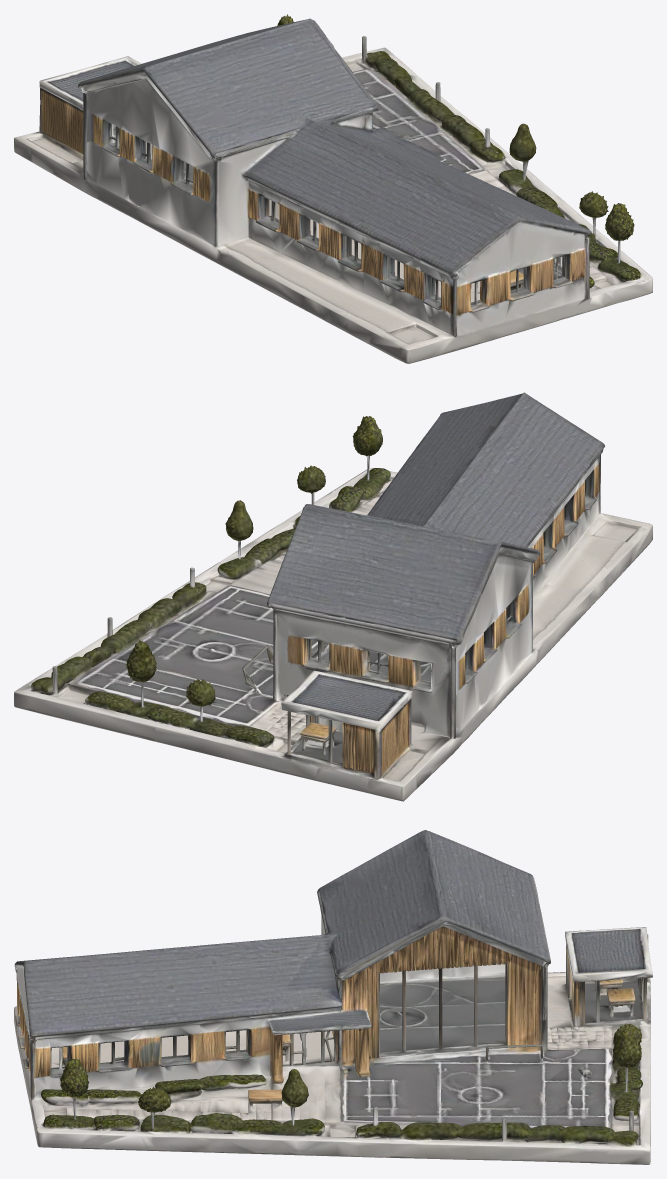
Rendered from b3-learning.glb.
3 views of the same model, one above another, from view 1: azimuth 30°, elevation 25°; view 2: azimuth 150°, elevation 25°; view 3: azimuth 270°, elevation 25° (orthographic). The views are drawn at different scales.
Visible parts, largest first — view 1: tripo_node_f67ab627-59f6-4296-8cf1-d5aba516e9d5; view 2: tripo_node_f67ab627-59f6-4296-8cf1-d5aba516e9d5; view 3: tripo_node_f67ab627-59f6-4296-8cf1-d5aba516e9d5.
Part boxes in pixels (left/top/right/bottom): tripo_node_f67ab627-59f6-4296-8cf1-d5aba516e9d5: left=14, top=14, right=652, bottom=363; tripo_node_f67ab627-59f6-4296-8cf1-d5aba516e9d5: left=14, top=392, right=652, bottom=801; tripo_node_f67ab627-59f6-4296-8cf1-d5aba516e9d5: left=14, top=830, right=652, bottom=1164.
Bounding box in the file's own units: 0.6614 × 0.2764 × 0.9787.
1 material, 1 textured.
